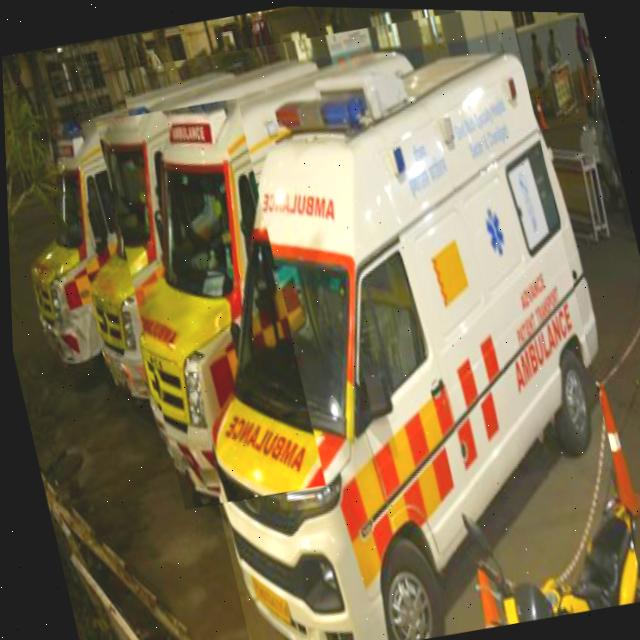Ambulance: (116, 2, 640, 640), (95, 95, 323, 512)
